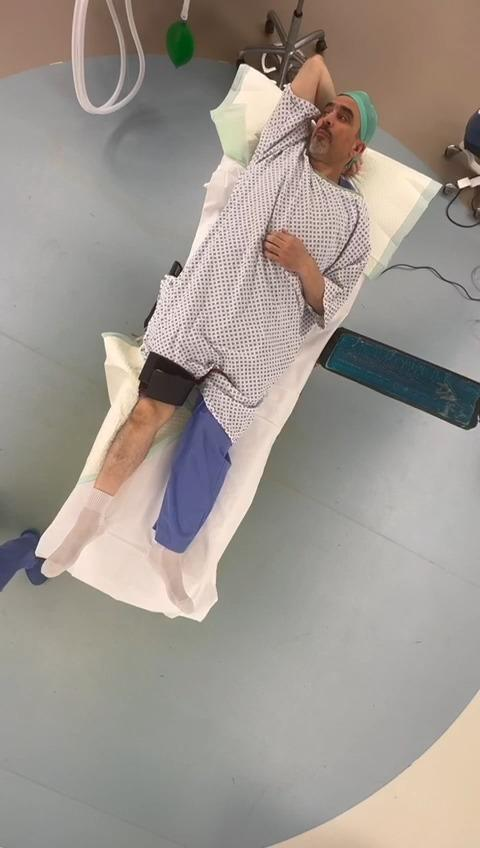patient: (41, 55, 376, 600)
tourniquet: (139, 351, 200, 406)
